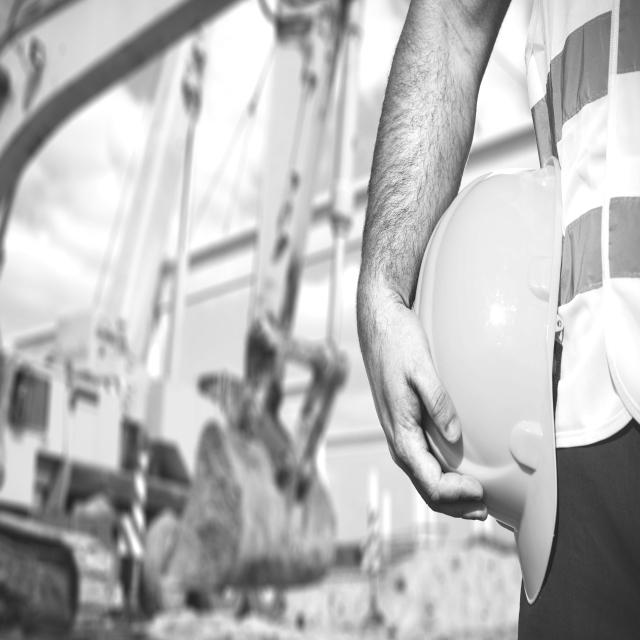hand_noglove: (350, 257, 484, 533)
head_helmet: (410, 155, 564, 603)
vest: (521, 1, 640, 452)
